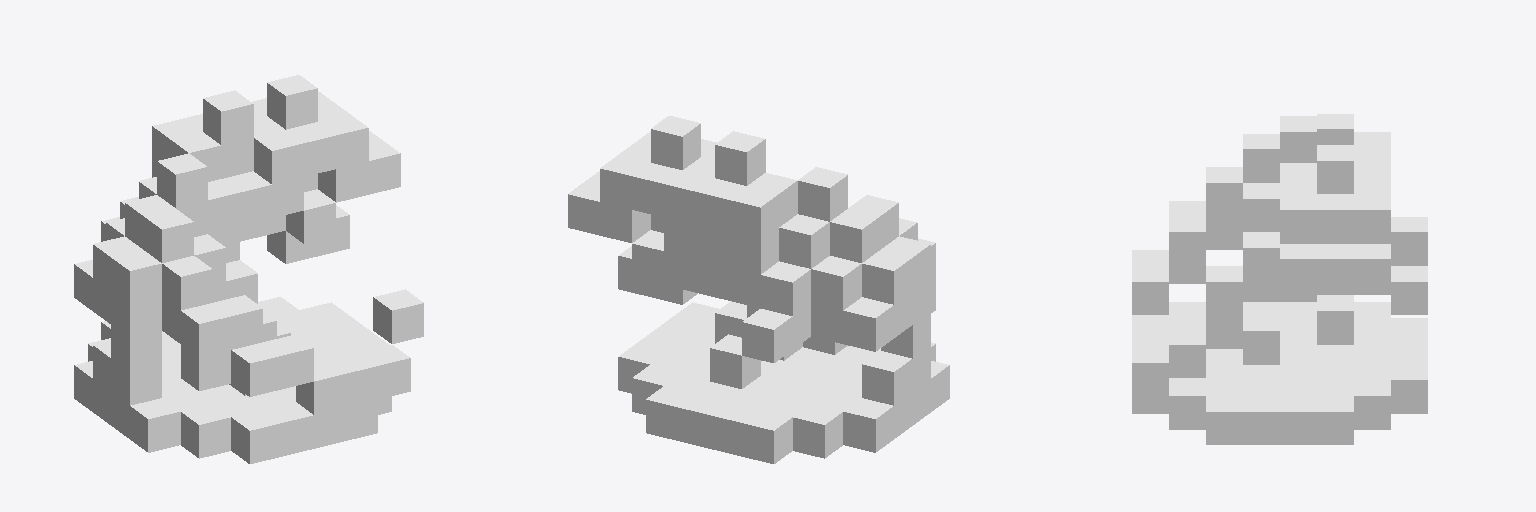
File: glue_dino.obj
The picture shows the model from 3 angles: view 1: azimuth 30°, elevation 25°; view 2: azimuth 150°, elevation 25°; view 3: azimuth 270°, elevation 25°; orthographic projection.
Parts seen in each view (by area): view 1: object 1; view 2: object 1; view 3: object 1.
Boxes of the visible parts, box(x1,y1,x2,y2) form: object 1: box(74, 75, 423, 463); object 1: box(568, 116, 949, 463); object 1: box(1132, 114, 1427, 444).
Size of the model in its own units: 0.9 by 0.8 by 0.8.